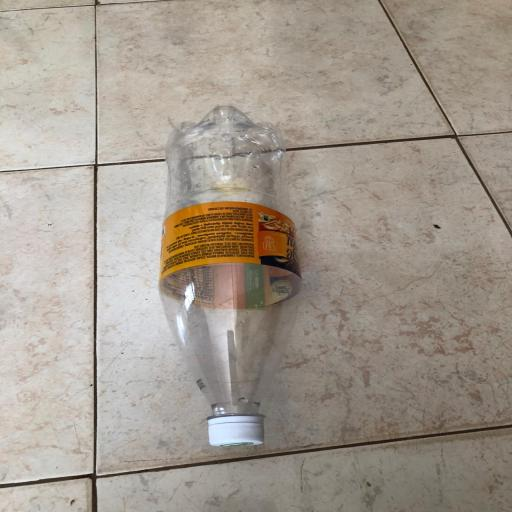waste: (150, 96, 304, 465)
